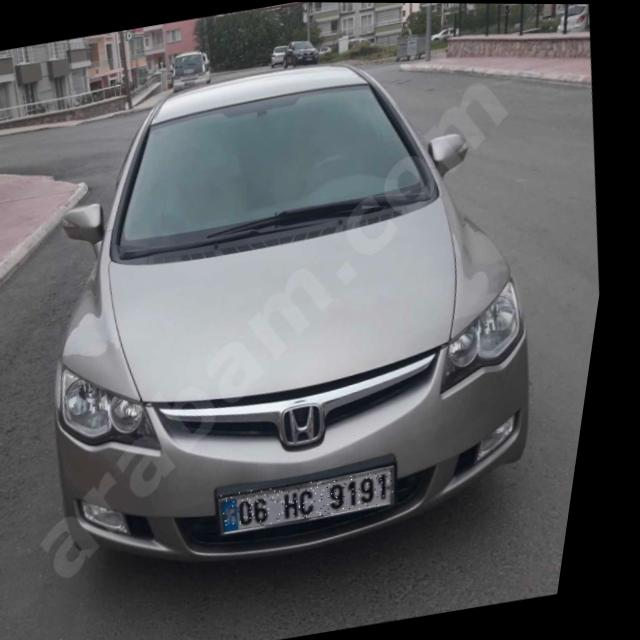license_plate: (230, 465, 413, 532)
